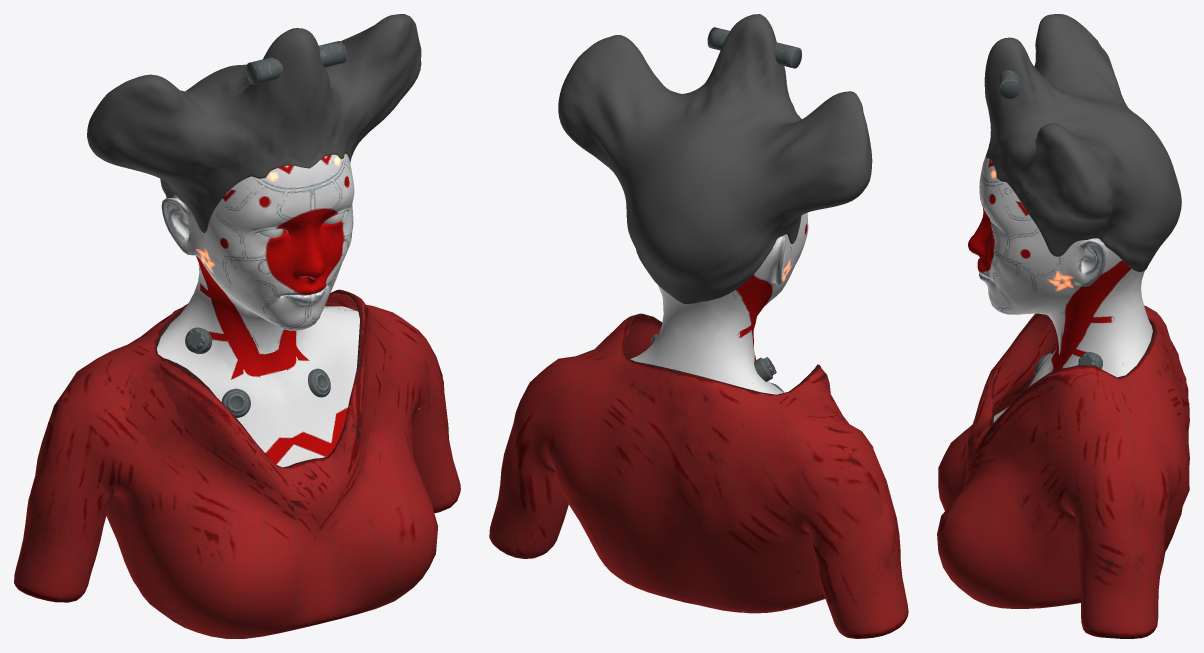
3 renders of one model, left to right at view 1: azimuth 30°, elevation 25°; view 2: azimuth 150°, elevation 25°; view 3: azimuth 270°, elevation 25°, orthographic. The views are drawn at different scales.
Parts seen in each view (by area): view 1: ROPA_1, CIBER_GEISHA_2, PELO_1, COSAS_2, CILINDRO_1; view 2: ROPA_1, PELO_1, CIBER_GEISHA_2, CILINDRO_1; view 3: ROPA_1, PELO_1, CIBER_GEISHA_2, CILINDRO_1, COSAS_2.
Part boxes in pixels (x1,y1,x2,y2): ROPA_1: (14,289,460,638); CIBER_GEISHA_2: (157,153,419,467); PELO_1: (87,14,421,233); COSAS_2: (185,324,330,417); CILINDRO_1: (246,41,346,84); ROPA_1: (489,313,908,638); PELO_1: (558,14,872,303); CIBER_GEISHA_2: (629,212,808,612); CILINDRO_1: (707,27,801,68); ROPA_1: (937,305,1189,638); PELO_1: (984,14,1181,271); CIBER_GEISHA_2: (968,157,1152,422); CILINDRO_1: (999,70,1019,98); COSAS_2: (1034,352,1102,374).
Bounding box in the file's own units: 1.98 × 2.54 × 1.1.
